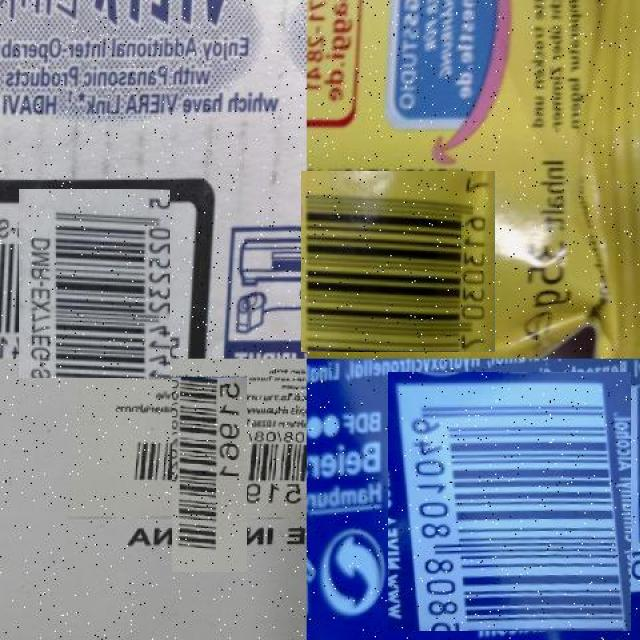Barcode: (384, 376, 636, 627), (303, 168, 492, 355), (9, 198, 180, 368), (142, 406, 277, 542)
